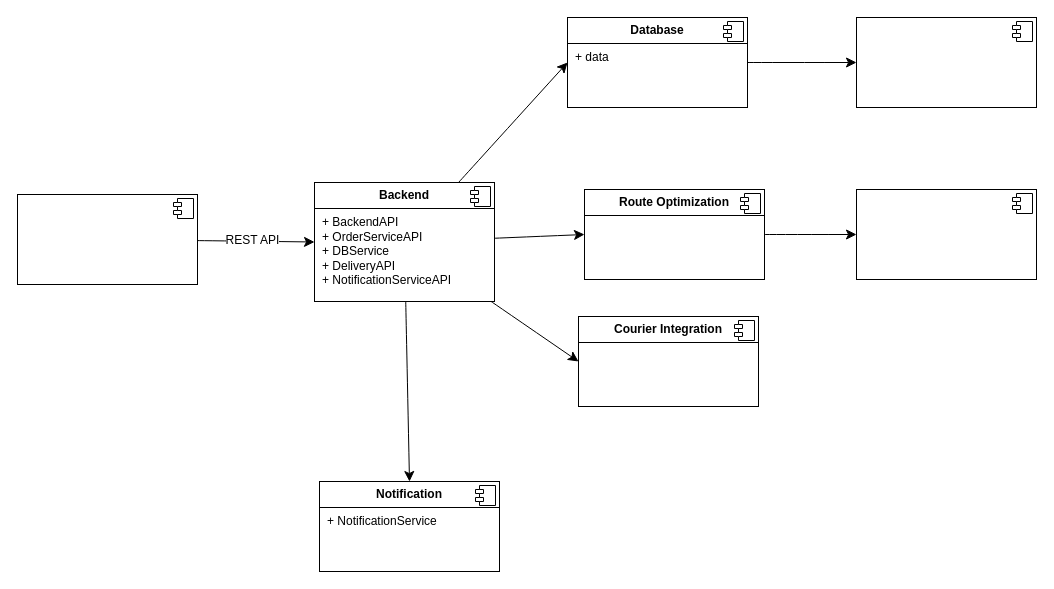
The diagram is 1054 pixels wide and 589 high, and some of its shapes have lost their labels. The shapes that lost their labels are listed below. From the top down, each one's box as (x1, y1, x2, y2) in pixels, then its label:
(856, 16, 1036, 108): Warehouse Management + WarehouseServiceAPI
(16, 194, 198, 284): Frontend + Web UI + Mobile App (Couriers)
(856, 188, 1036, 280): Analytics System + AnalyticsService
